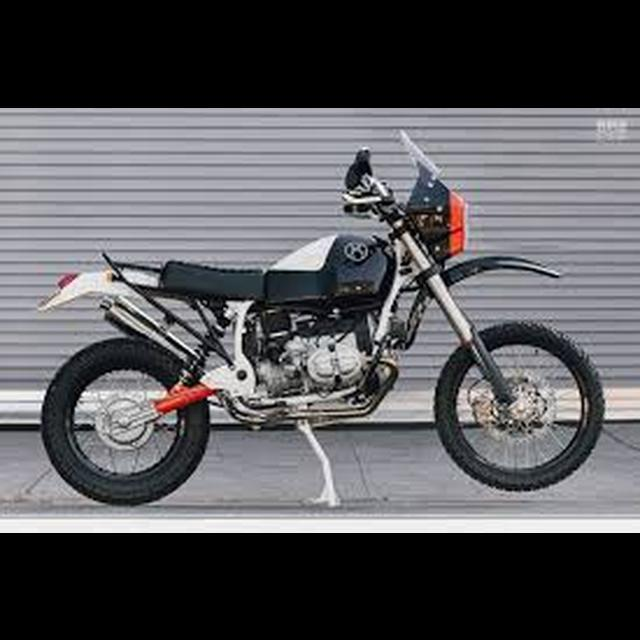motorcycle: (31, 125, 606, 508)
